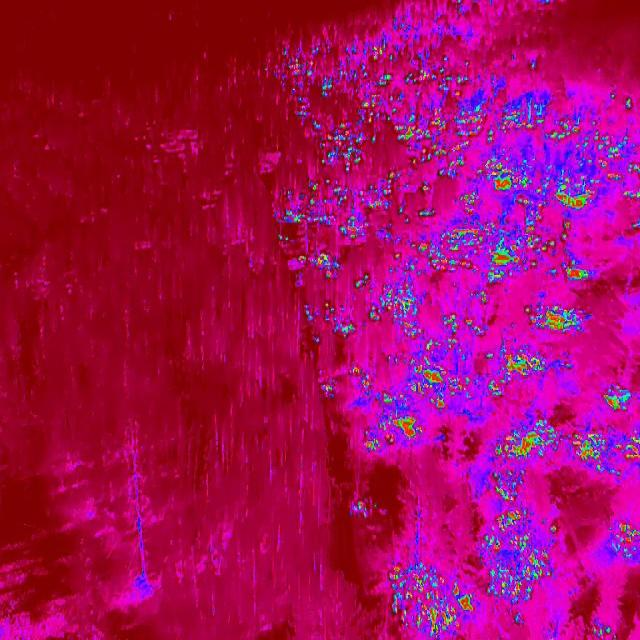fire: (276, 24, 479, 174), (480, 93, 638, 225), (276, 171, 436, 274), (404, 346, 546, 410), (354, 245, 446, 337), (432, 224, 557, 288), (380, 559, 476, 639), (485, 510, 560, 610), (361, 396, 424, 456), (570, 428, 640, 478), (520, 298, 598, 340), (492, 417, 559, 465), (298, 304, 358, 344), (420, 316, 492, 346), (604, 512, 640, 568), (600, 378, 639, 414), (491, 468, 528, 504), (558, 258, 596, 286), (348, 496, 378, 523), (316, 374, 340, 404), (350, 366, 374, 392), (456, 190, 478, 218), (469, 288, 496, 310), (590, 623, 615, 639)
